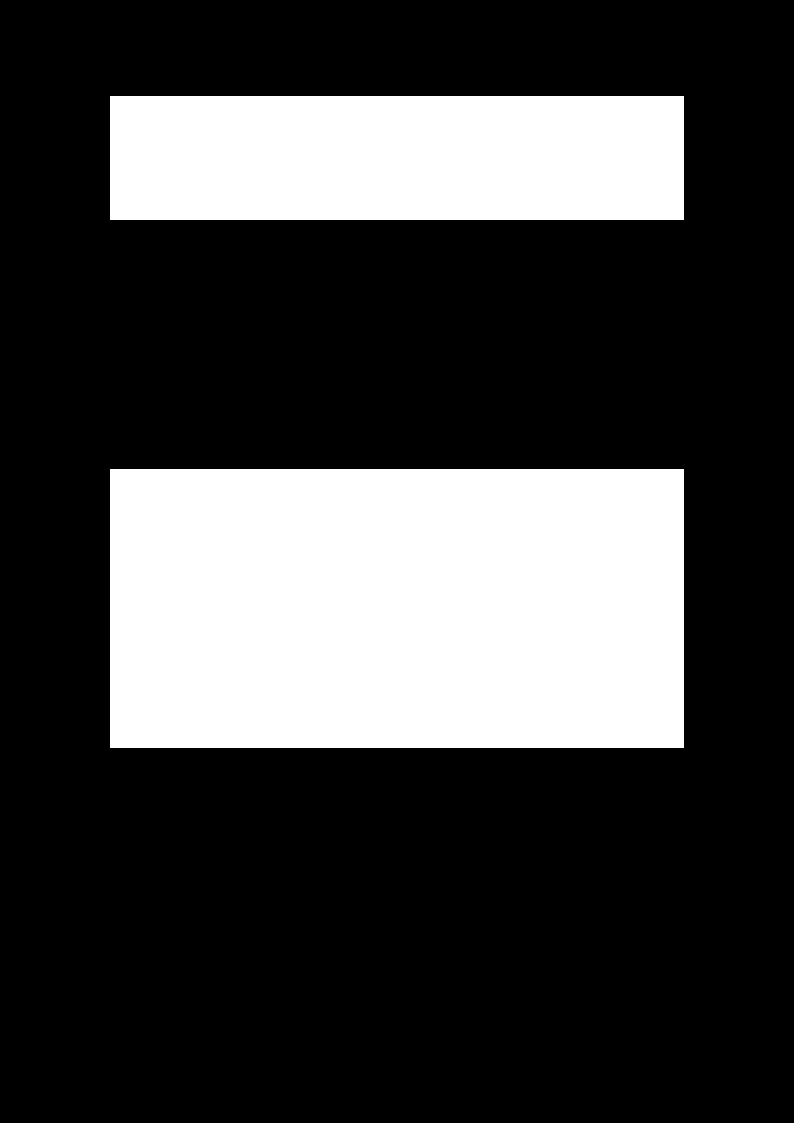table: (110, 469, 683, 747), (110, 96, 683, 219)
